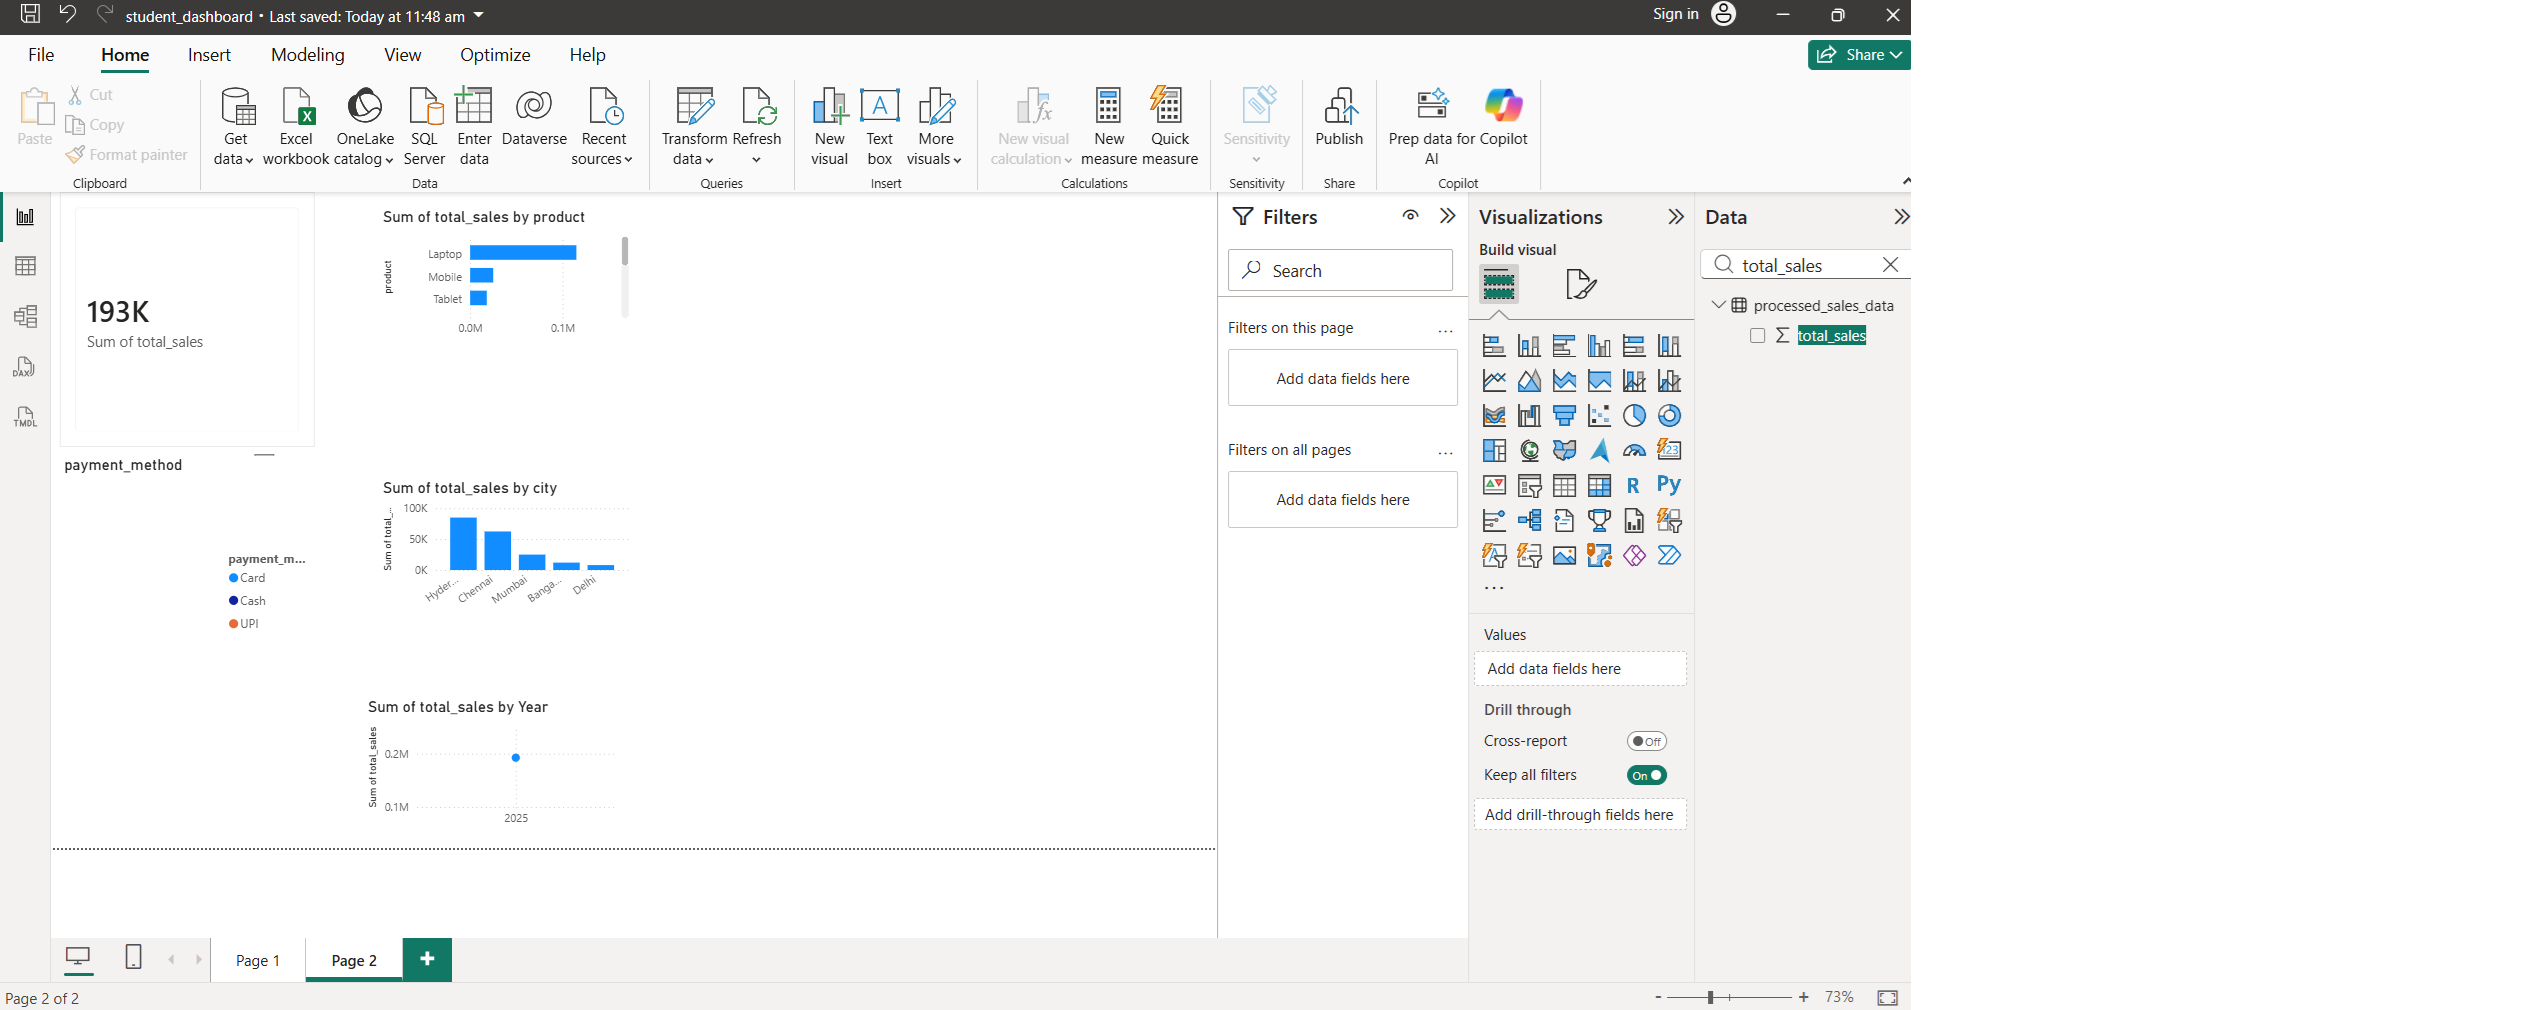

The page's visual inventory and layout, read from the dashboard file:
{"tool":"powerbi","page":{"name":"Page 2","canvas":[1280,720],"ordinal":1},"visuals":[{"type":"cardVisual","fields":{"Data":["Sum(processed_sales_data.total_sales)"]},"box":[10,0,280,280],"z":0},{"type":"pieChart","fields":{"Category":["processed_sales_data.payment_method"]},"box":[10,290,280,280],"z":1},{"type":"barChart","fields":{"Category":["processed_sales_data.product"],"Y":["Sum(processed_sales_data.total_sales)"]},"box":[359.5,16.5,279.9,150.9],"z":2},{"type":"clusteredColumnChart","fields":{"Category":["processed_sales_data.city"],"Y":["Sum(processed_sales_data.total_sales)"]},"box":[359.5,314.2,279.9,150.9],"z":3},{"type":"lineChart","fields":{"Category":["processed_sales_data.order_date.Variation.Date Hierarchy.Year","processed_sales_data.order_date.Variation.Date Hierarchy.Quarter","processed_sales_data.order_date.Variation.Date Hierarchy.Month","processed_sales_data.order_date.Variation.Date Hierarchy.Day"],"Y":["Sum(processed_sales_data.total_sales)"]},"box":[343.1,554.4,279.9,150.9],"z":4}]}

Visuals, with their boxes on the page's 1280x720 design canvas (x1, y1, x2, y2). These are canvas units, not pixel positions in the 2532x1010 screenshot, which may show the page scaled, cropped or inside an application window:
cardVisual - Sum(processed_sales_data.total_sales): l=10, t=0, r=290, b=280
pieChart - processed_sales_data.payment_method: l=10, t=290, r=290, b=570
barChart - processed_sales_data.product x Sum(processed_sales_data.total_sales): l=360, t=16, r=639, b=167
clusteredColumnChart - processed_sales_data.city x Sum(processed_sales_data.total_sales): l=360, t=314, r=639, b=465
lineChart - processed_sales_data.order_date.Variation.Date Hierarchy.Year x processed_sales_data.order_date.Variation.Date Hierarchy.Quarter: l=343, t=554, r=623, b=705
